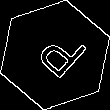P_SW: (23, 24, 87, 86)
